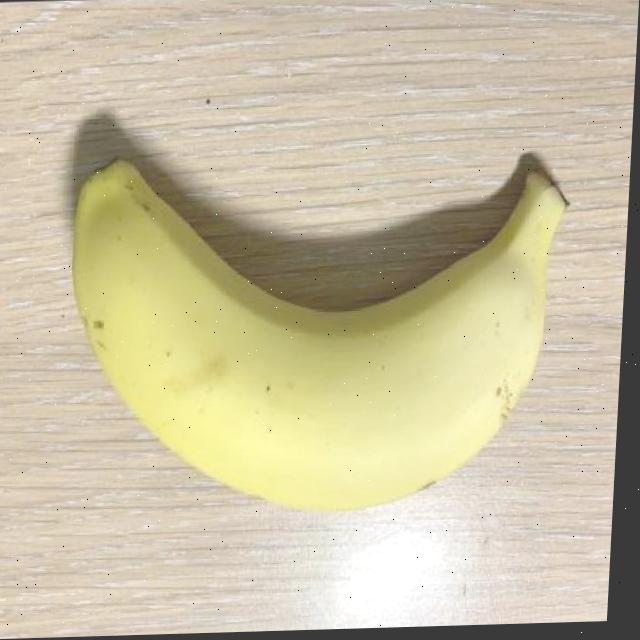banana: (51, 121, 577, 527)
